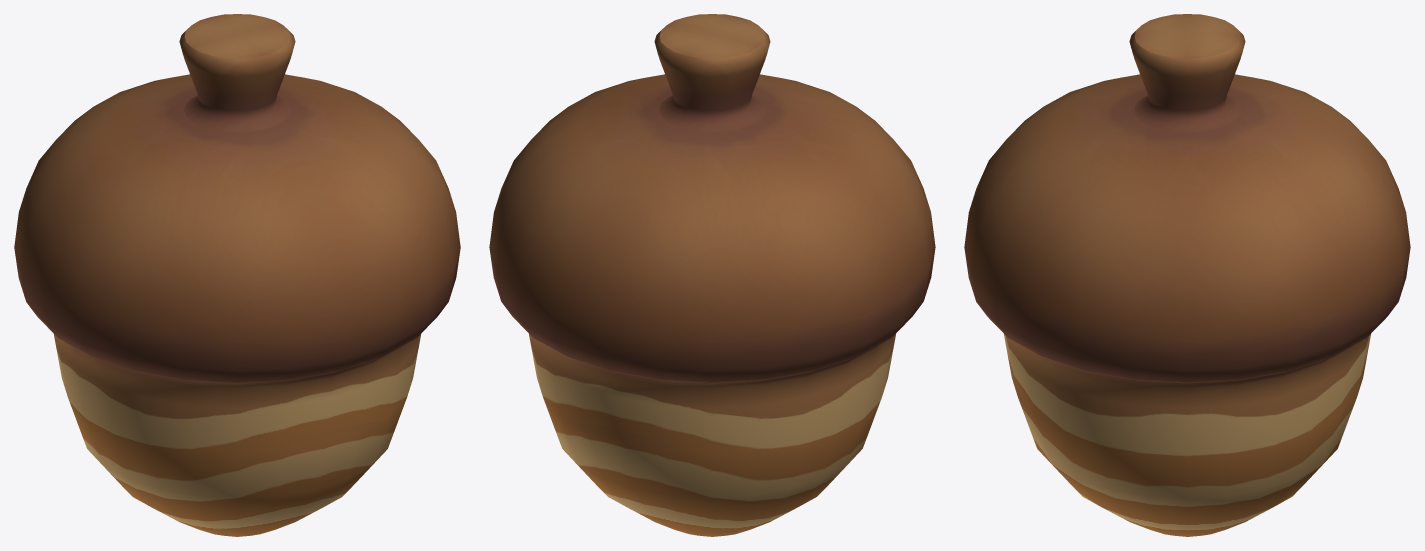
File: acorn.glb
3 views of the same model, side by side, from view 1: azimuth 30°, elevation 25°; view 2: azimuth 150°, elevation 25°; view 3: azimuth 270°, elevation 25° (orthographic).
Visible parts, largest first — view 1: Acorn; view 2: Acorn; view 3: Acorn.
Part boxes in pixels (x1=…): Acorn: x1=14, y1=14, x2=460, y2=536; Acorn: x1=489, y1=14, x2=935, y2=536; Acorn: x1=964, y1=14, x2=1410, y2=536.
Bounding box in the file's own units: 0.3572 × 0.4402 × 0.3572.
Materials: 1 (1 with a texture image).
